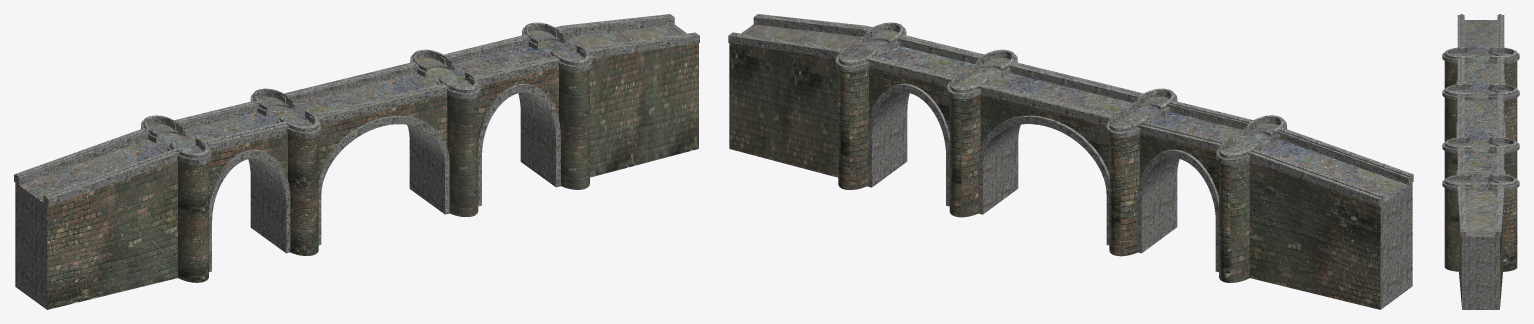
Rendered from puente.fbx.
3 renders of one model, left to right at view 1: azimuth 30°, elevation 25°; view 2: azimuth 150°, elevation 25°; view 3: azimuth 270°, elevation 25°, orthographic. The views are drawn at different scales.
Parts seen in each view (by area): view 1: bridge; view 2: bridge; view 3: bridge.
Boxes of the visible parts, <box> form: bridge: <box>14,14,699,309</box>; bridge: <box>728,14,1413,309</box>; bridge: <box>1442,14,1519,309</box>.
Size of the model in its own units: 54.17 by 10.21 by 8.1.
3 materials, 3 textured.
